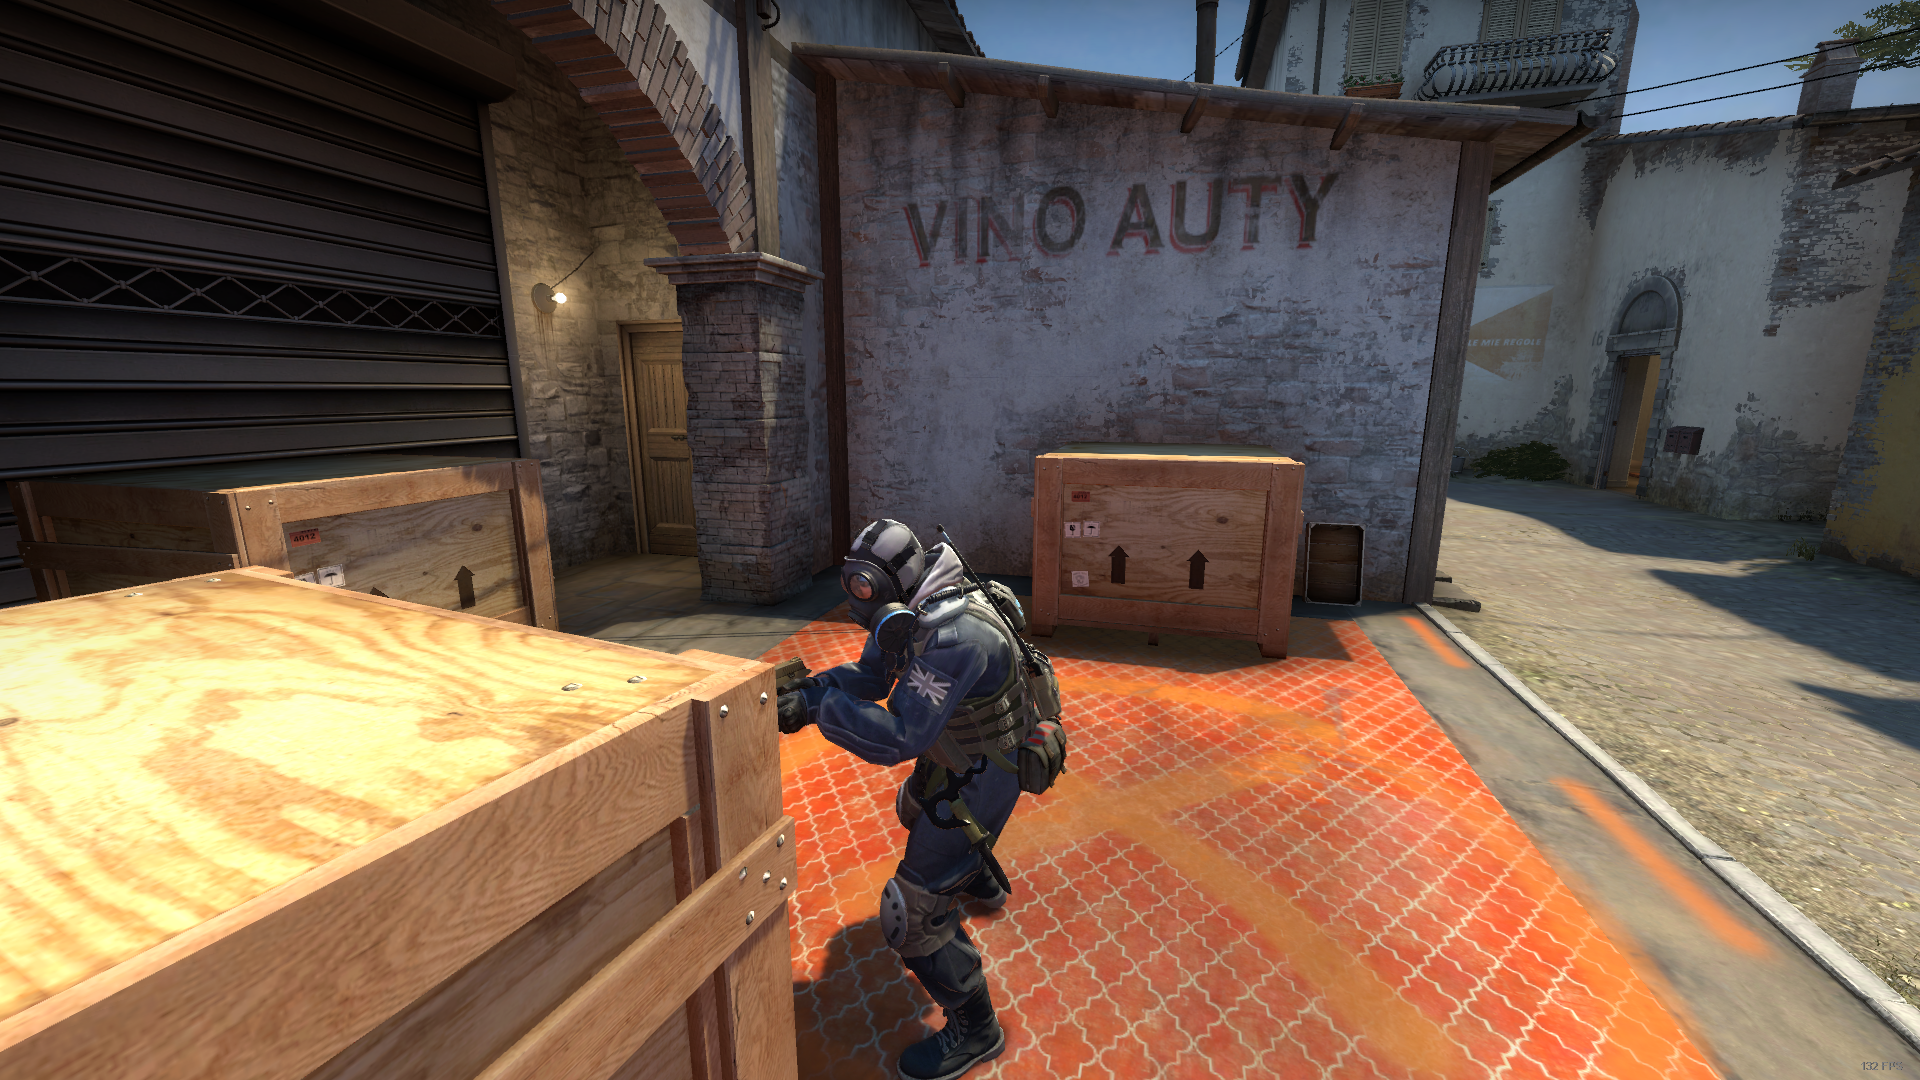ct: (808, 508, 1097, 1079)
